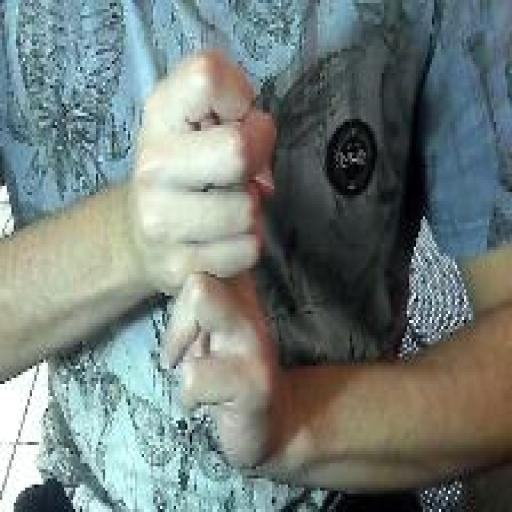Ne -rat-: (129, 41, 285, 477)
